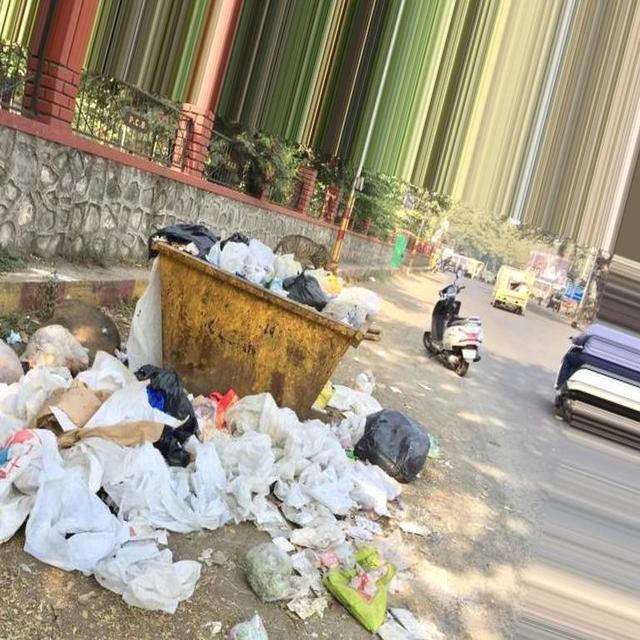high trash: (0, 325, 432, 640)
